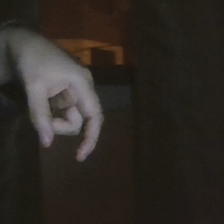Q: (5, 10, 111, 169)
